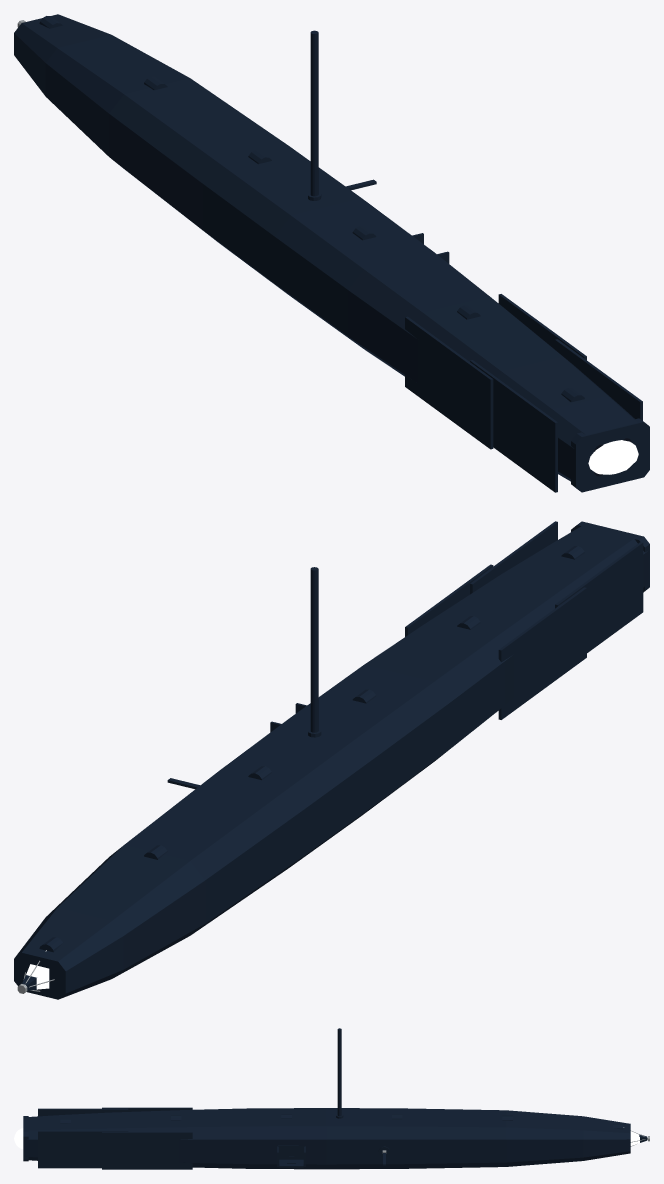
3 views of the same model, one above another, from view 1: azimuth 30°, elevation 25°; view 2: azimuth 150°, elevation 25°; view 3: azimuth 270°, elevation 25° (orthographic). The views are drawn at different scales.
Visible parts, largest first — view 1: RIMWARD_HULL, RIMWARD_ENGINE_GLOW; view 2: RIMWARD_HULL; view 3: RIMWARD_HULL.
Part boxes in pixels (box(x1,y1,x2,y2)): RIMWARD_HULL: box(14, 14, 649, 492); RIMWARD_ENGINE_GLOW: box(588, 440, 638, 474); RIMWARD_HULL: box(14, 521, 649, 999); RIMWARD_HULL: box(23, 1028, 649, 1169).
Bounding box in the file's own units: 12.56 × 19.27 × 84.34.
